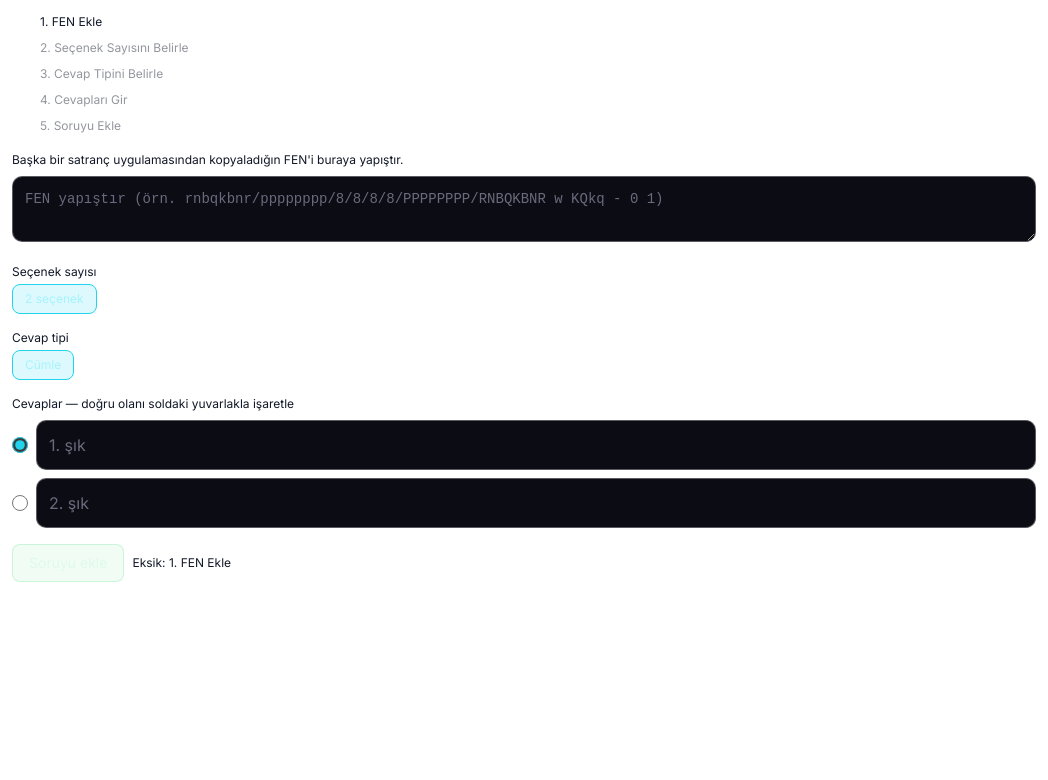
Test: KonumPratigiFields › geçerli FEN yapıştırılınca önizleme tahtası ve hamle sırası butonları görünür
Replace the text in the text box with placeholder "FEN yapıştır" with "r1bqkbnr/pppp1ppp/2n5/4p3/2B1P3/5N2/PPPP1PPP/RNBQK2R b KQkq - 0 1" at (524, 209), box [12,176,1036,242]
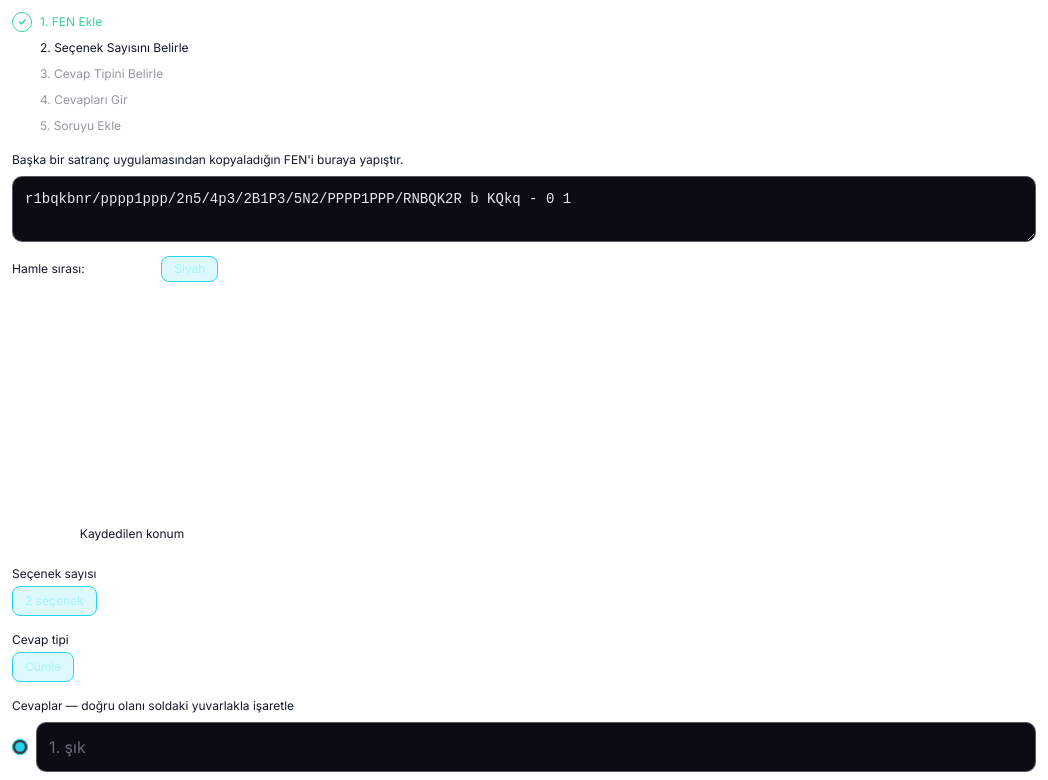
Check: the button labelled "Siyah" is shown, box [161,256,218,282]
